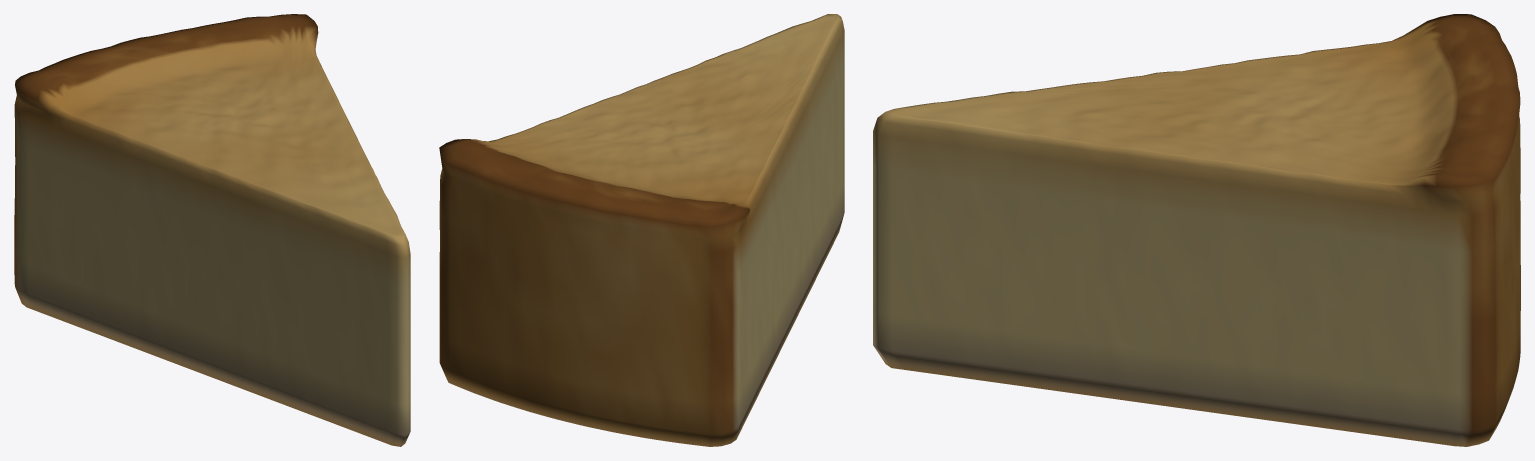
The model's file is kaesekuchen-1-stueck.glb.
3 renders of one model, left to right at view 1: azimuth 30°, elevation 25°; view 2: azimuth 150°, elevation 25°; view 3: azimuth 270°, elevation 25°, orthographic. The views are drawn at different scales.
Visible parts, largest first — view 1: kaesekuchen-1-stueck; view 2: kaesekuchen-1-stueck; view 3: kaesekuchen-1-stueck.
Part boxes in pixels (x1,y1,x2,y2): kaesekuchen-1-stueck: (14, 14, 410, 446); kaesekuchen-1-stueck: (439, 14, 844, 446); kaesekuchen-1-stueck: (873, 14, 1520, 446).
Bounding box in the file's own units: 0.0822 × 0.0596 × 0.1301.
